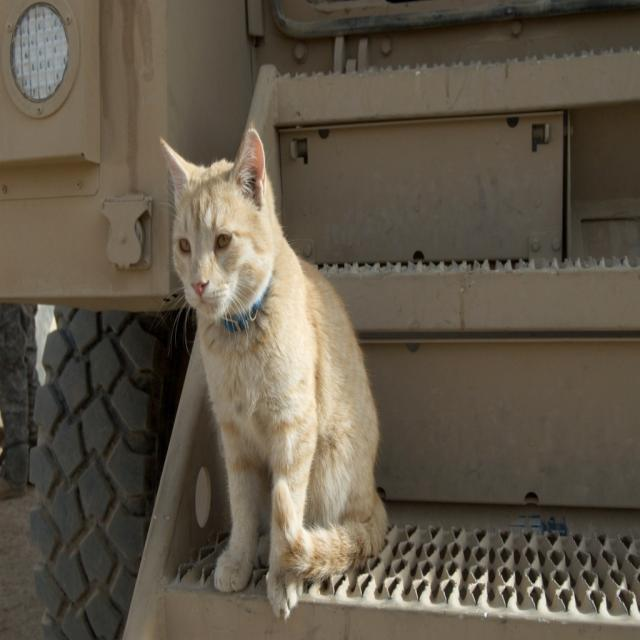Cat: (147, 114, 391, 621)
